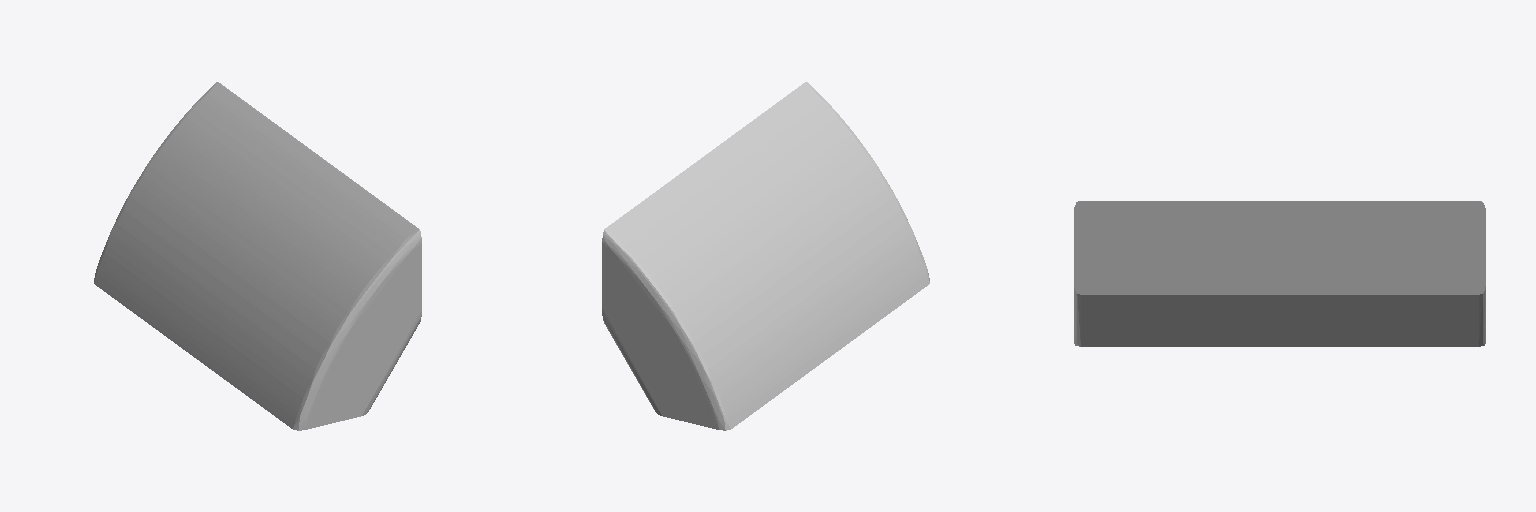
The model's file is Cylinder_with_Hole_collision_7.obj.
The picture shows the model from 3 angles: view 1: azimuth 30°, elevation 25°; view 2: azimuth 150°, elevation 25°; view 3: azimuth 270°, elevation 25°; orthographic projection.
Size of the model in its own units: 50.07 by 65.14 by 143.